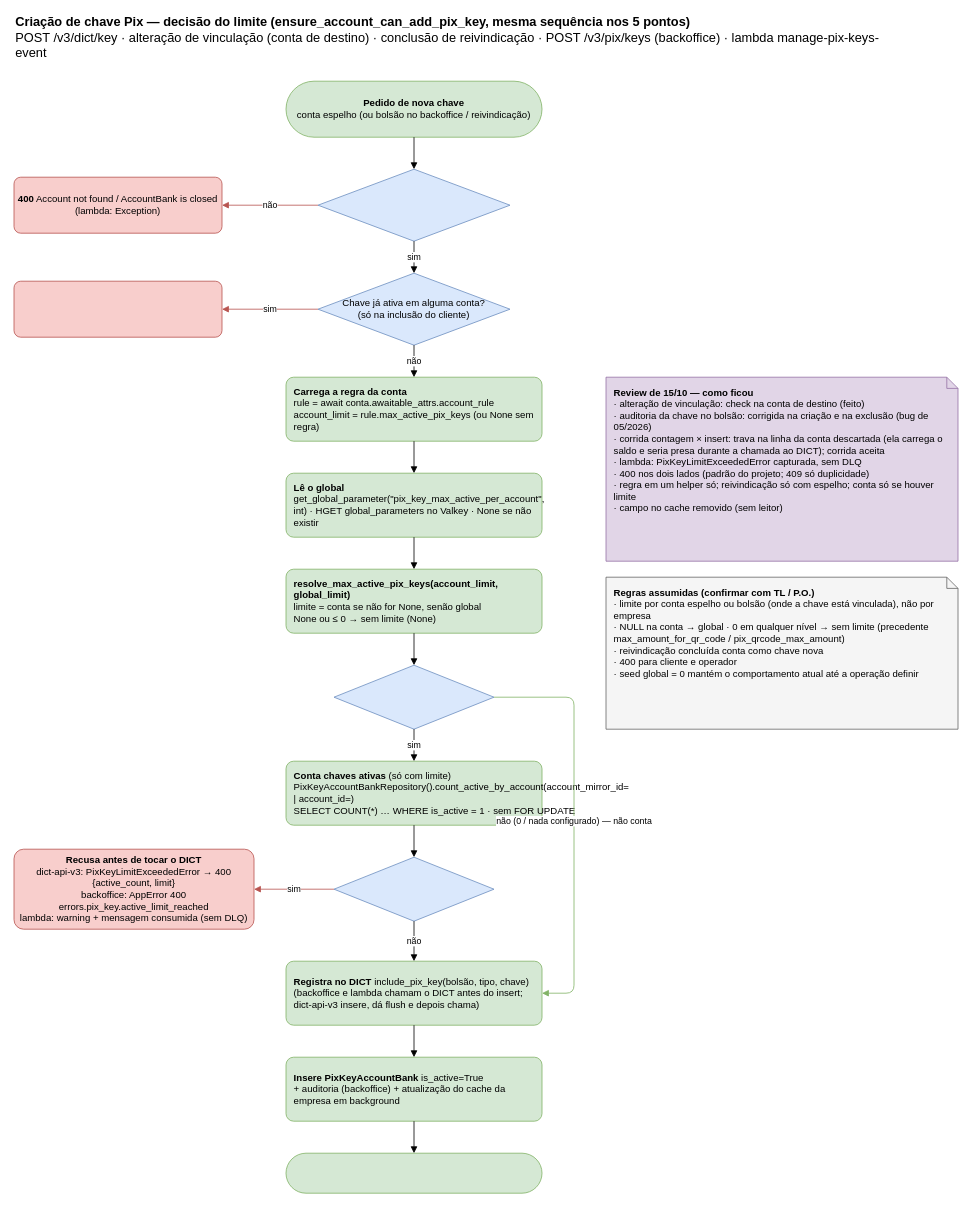
Image size: 972x1207. Some labels were removed from this diagram. Here are the shapes that lost their labels. From the top down, the centre of each, then its label:
the point at 413,204: Conta e bolsão ACTIVE? (checagens já existentes)
the point at 117,308: 409 This PIX key is already registered…
the point at 413,696: Há limite efetivo?
the point at 413,888: ativas ≥ limite?
the point at 413,1172: 201 / mensagem consumida
